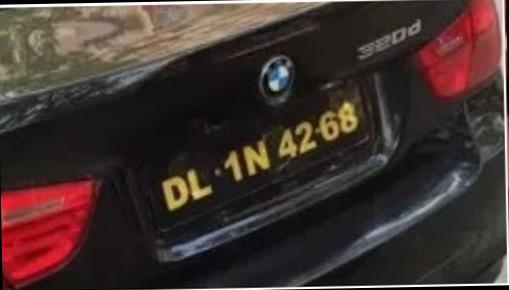plate: (123, 107, 401, 209)
